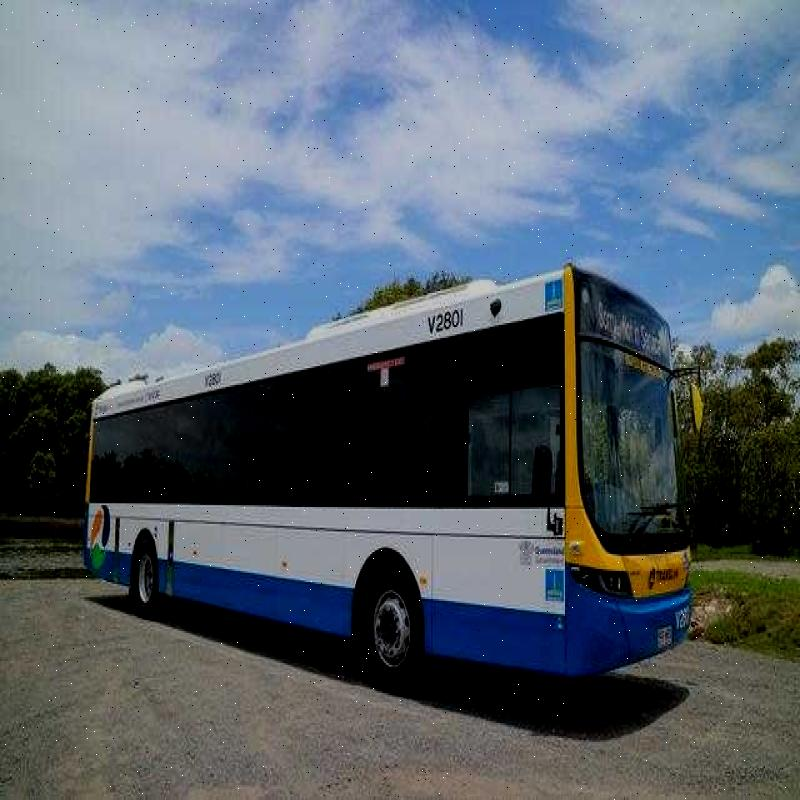bus: (63, 248, 713, 729)
